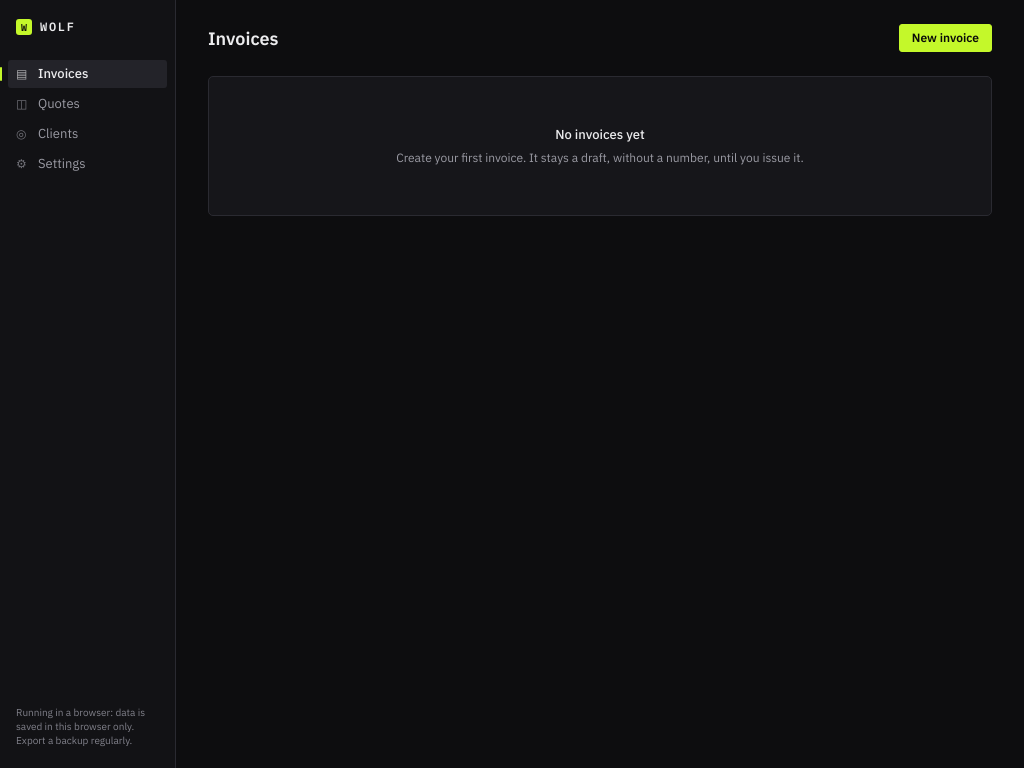
Test: writing an invoice › asks before deleting a draft
Click the button "New invoice" at (945, 38), box x1=899 y1=24 x2=992 y2=52
(page scrolled)
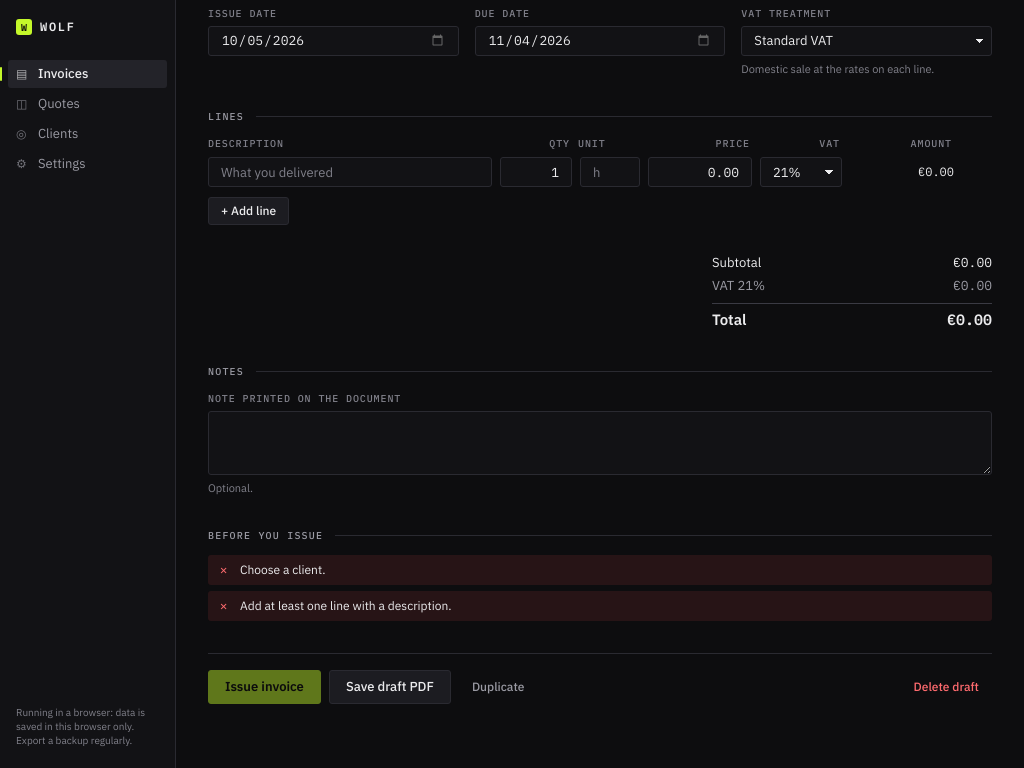
Click the button "Delete draft" at (946, 687), box x1=901 y1=673 x2=992 y2=701
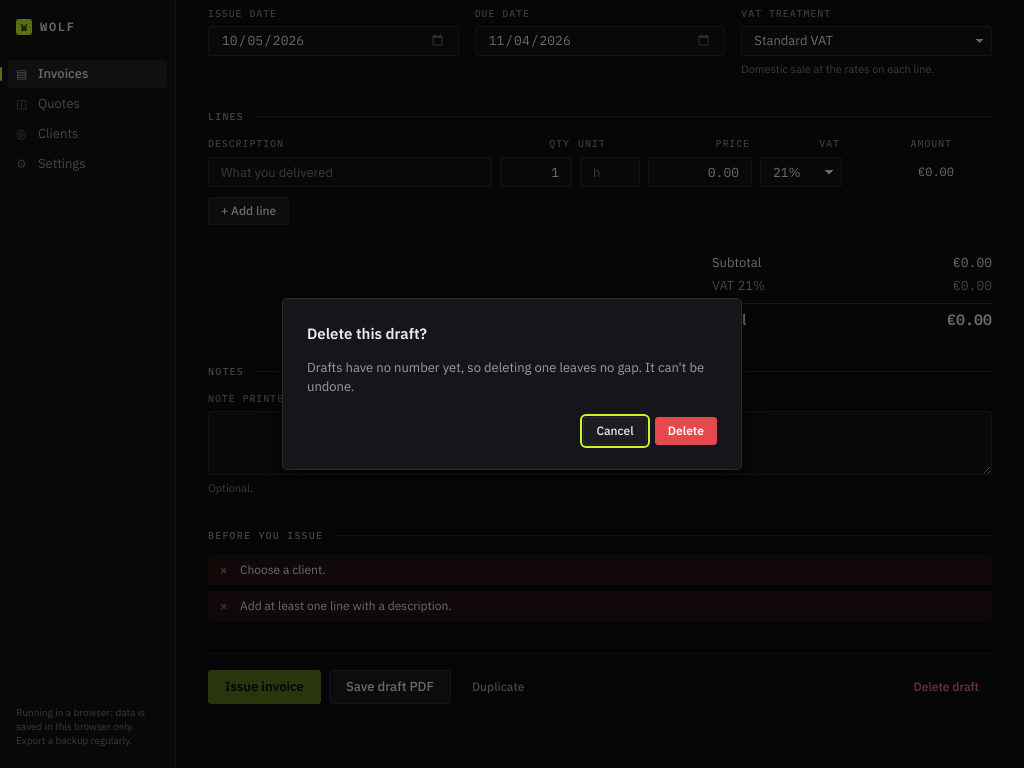
Press Escape
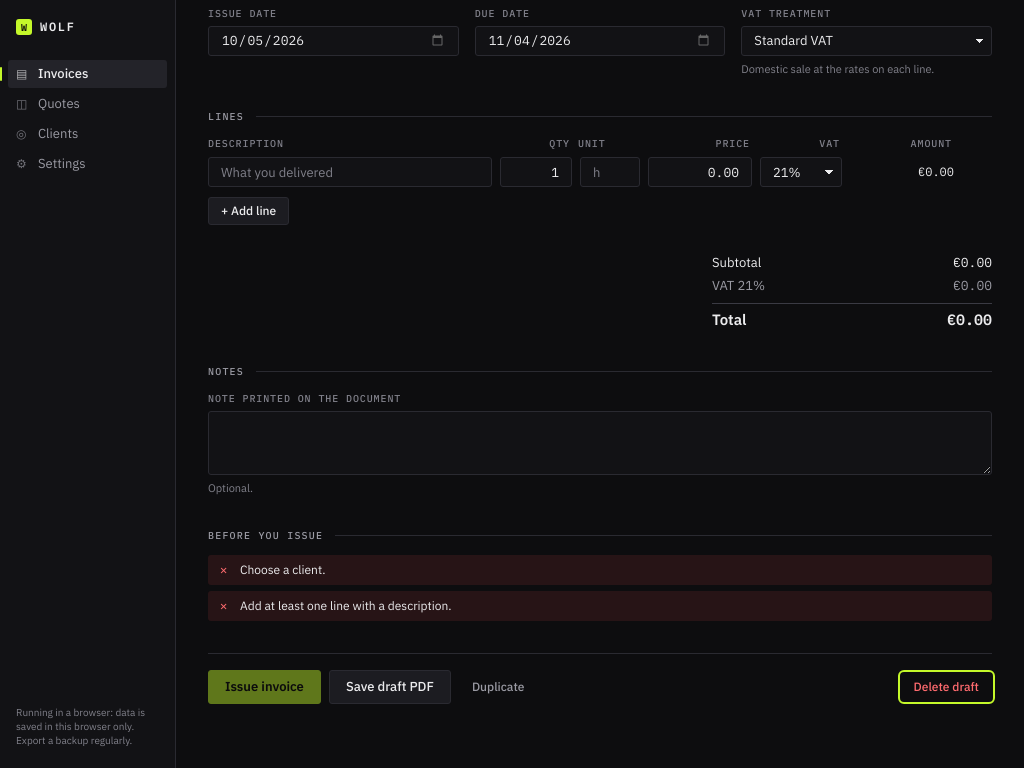
Result: the button "Delete draft" is shown
Click the button "Delete draft" at (946, 687), box x1=901 y1=673 x2=992 y2=701
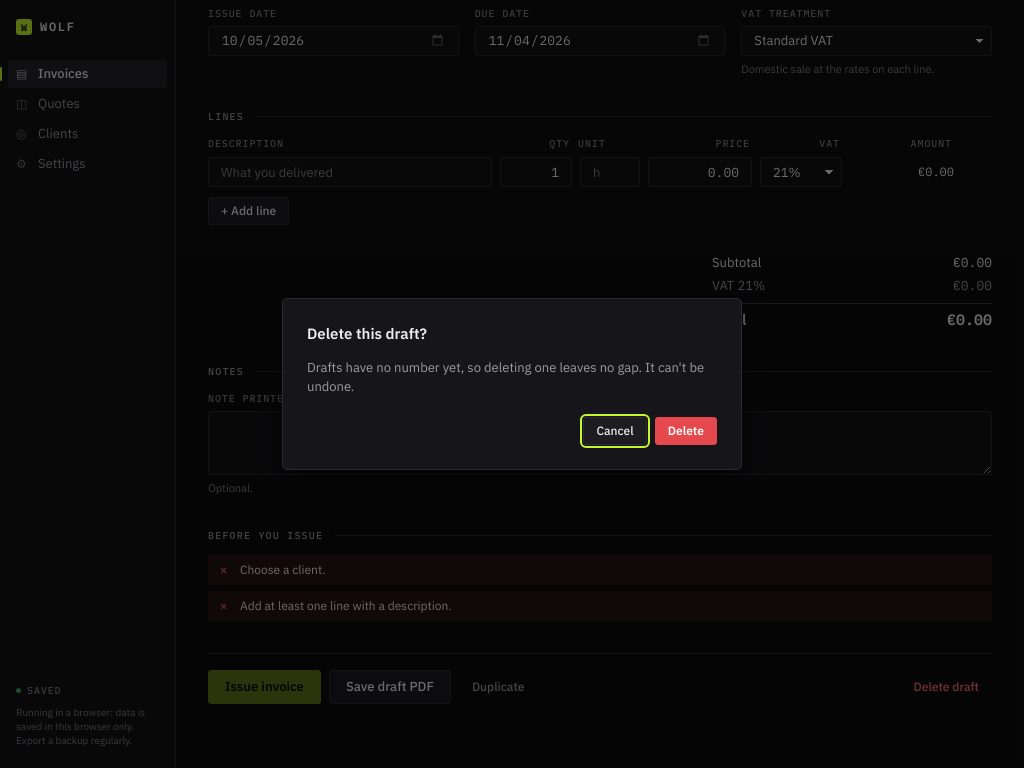
Click the button "Delete" at (686, 431), box x1=655 y1=417 x2=717 y2=445
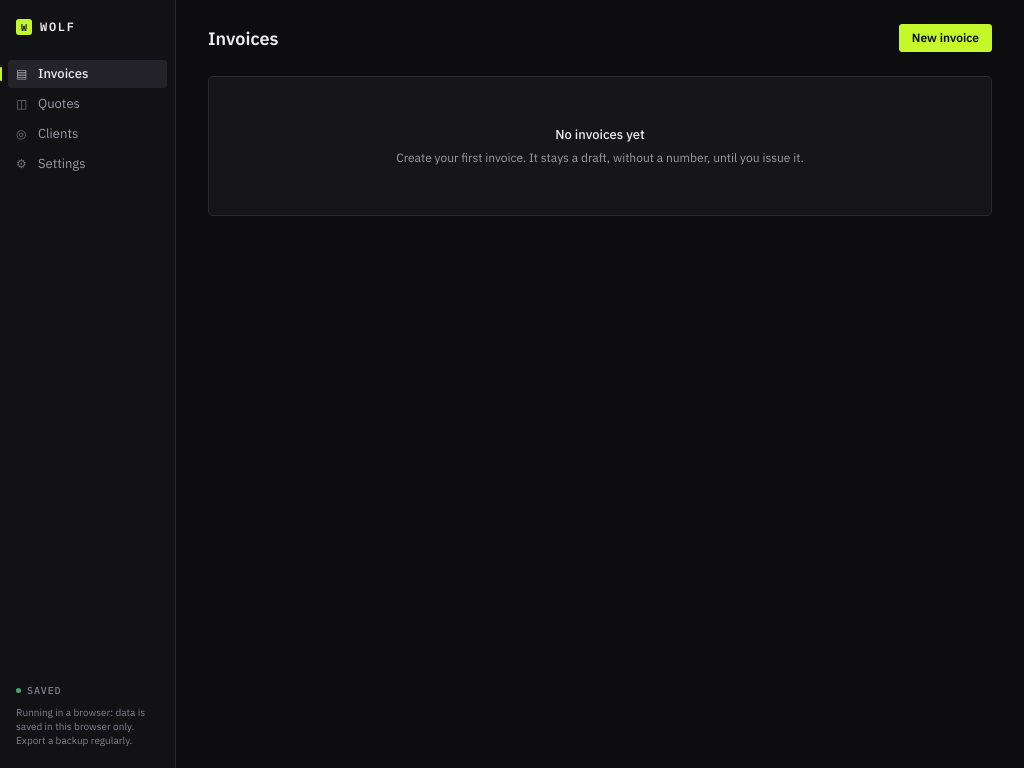
Result: the text "No invoices yet" is shown at x1=555 y1=126 x2=645 y2=143
